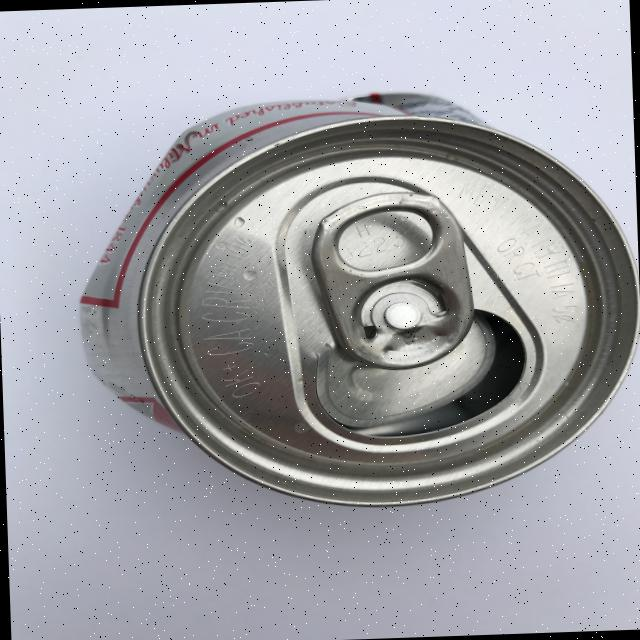metal: (71, 83, 640, 517)
